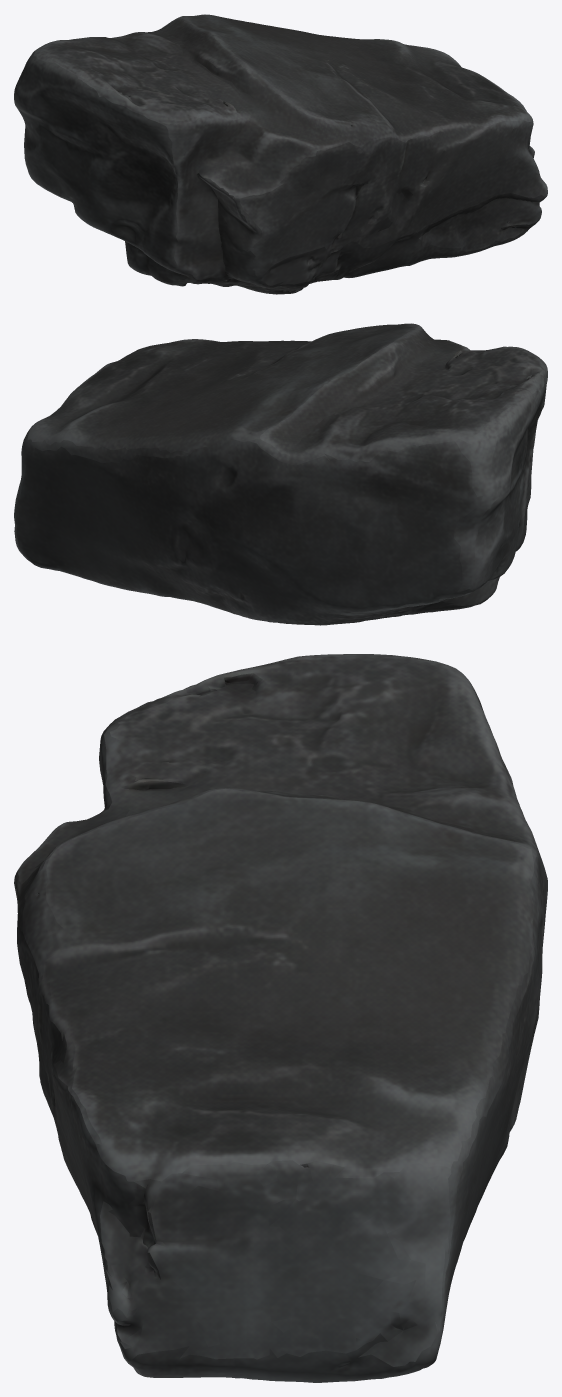
3 renders of one model, top to bottom at view 1: azimuth 30°, elevation 25°; view 2: azimuth 150°, elevation 25°; view 3: azimuth 270°, elevation 25°, orthographic. The views are drawn at different scales.
Parts seen in each view (by area): view 1: world; view 2: world; view 3: world.
Part boxes in pixels (box(x1,y1,x2,y2)): world: box(14, 14, 547, 294); world: box(14, 323, 547, 625); world: box(14, 654, 547, 1382).
Bounding box in the file's own units: 2.5 × 1.25 × 1.53.
1 material, 1 textured.
